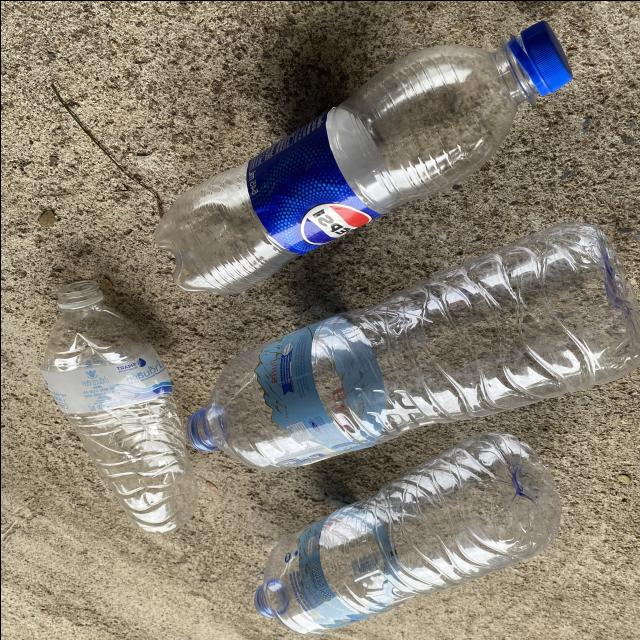plastik: (154, 20, 571, 293), (185, 222, 640, 470), (254, 432, 559, 634), (40, 280, 197, 531)
